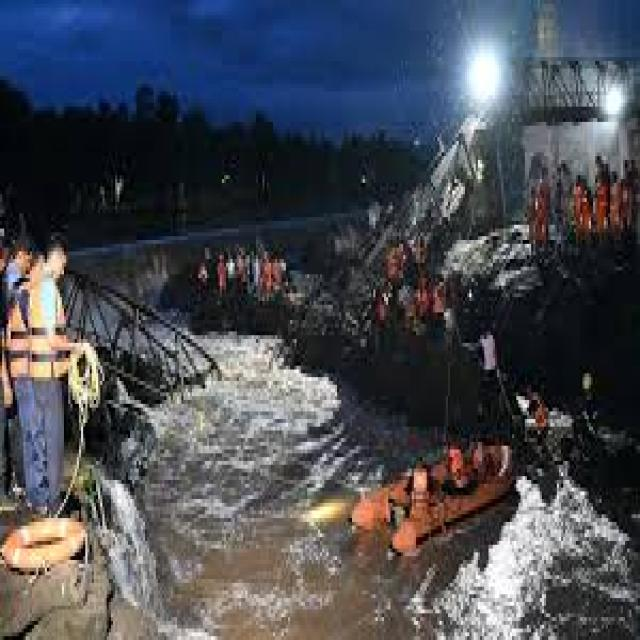bridge collapse: (75, 60, 596, 511)
